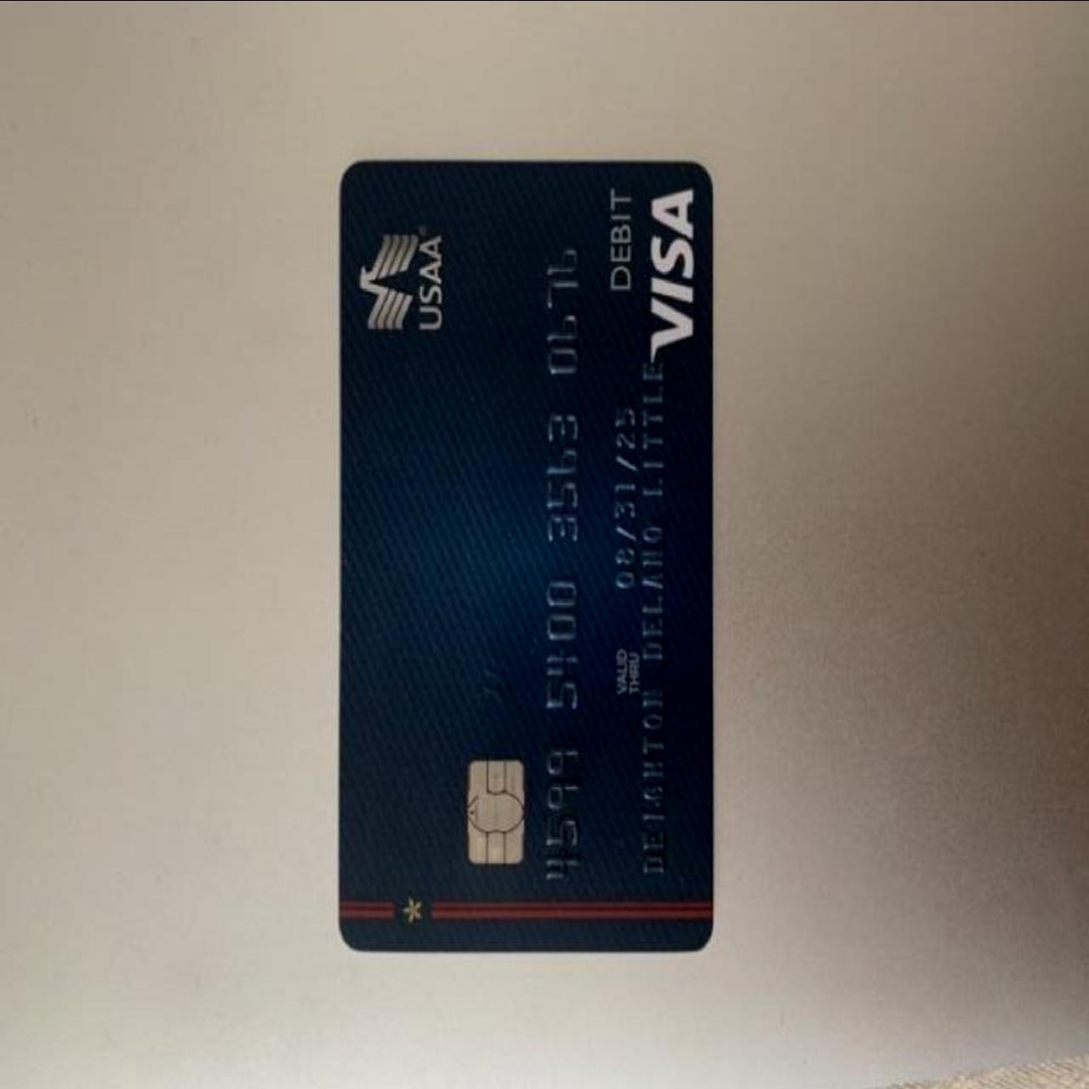credit_card: (337, 157, 711, 953)
